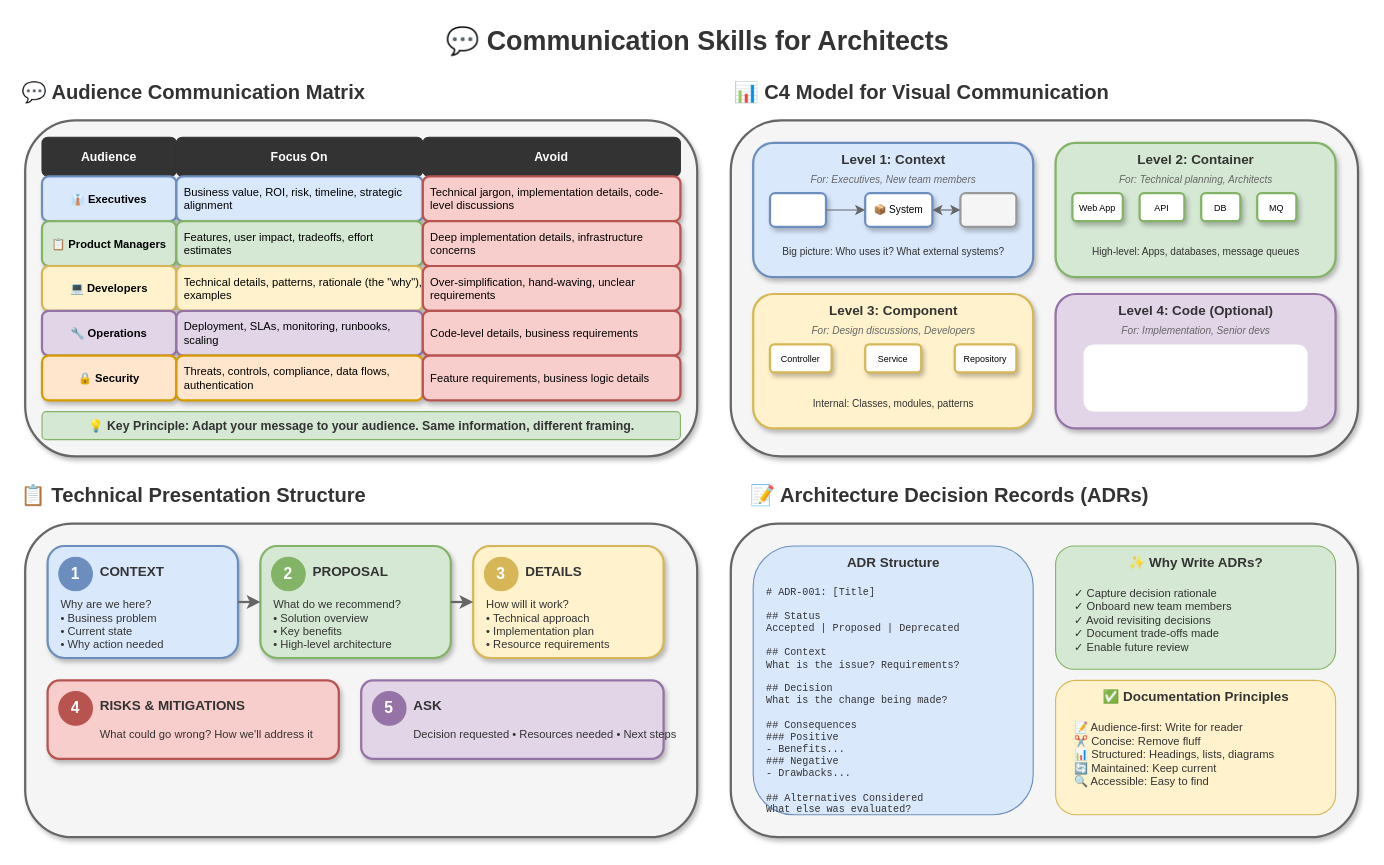
This 1384x865 diagram has some shape labels left out. The shapes that lost their labels are listed below. From the top down, each one's centre as x and y in pixels, then its label:
At (798,211): "👤 User".
At (989,211): "🌐 External".
At (1195,377): "class UserService { private repo: UserRepo; async getUser(id) {...} }".
